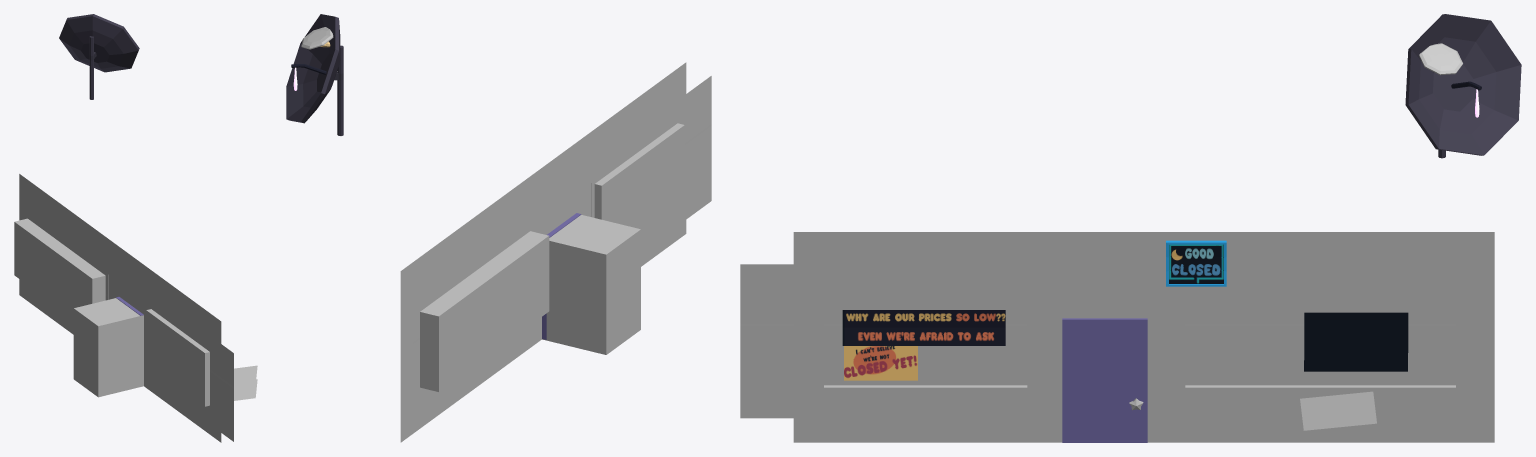
File: DBLiveTrashierScrambamblerFacade.fbx
The picture shows the model from 3 angles, left to right: view 1: azimuth 30°, elevation 25°; view 2: azimuth 150°, elevation 25°; view 3: azimuth 270°, elevation 25°; orthographic projection. The views are drawn at different scales.
Visible parts, largest first — view 1: ScrambamblerWall, MORPSatellite, Graffiti.005, Graffiti.006; view 2: ScrambamblerWall, MORPSatellite; view 3: ScrambamblerWall, MORPSatellite, BoringDoors.005, Poster.060, Poster.162, ClosedSign, Graffiti.002.
Boxes of the visible parts, x1,y1,x2,y2 form: ScrambamblerWall: (14,174,233,442); MORPSatellite: (59,14,139,99); Graffiti.005: (234,365,257,387); Graffiti.006: (234,379,257,400); ScrambamblerWall: (400,62,711,442); MORPSatellite: (286,14,343,135); ScrambamblerWall: (740,232,1494,442); MORPSatellite: (1405,14,1521,158); BoringDoors.005: (1062,318,1147,442); Poster.060: (842,310,1005,380); Poster.162: (1304,312,1408,371); ClosedSign: (1166,240,1226,286); Graffiti.002: (1300,391,1376,430).
Size of the model in its own units: 723 by 1341 by 1980.
